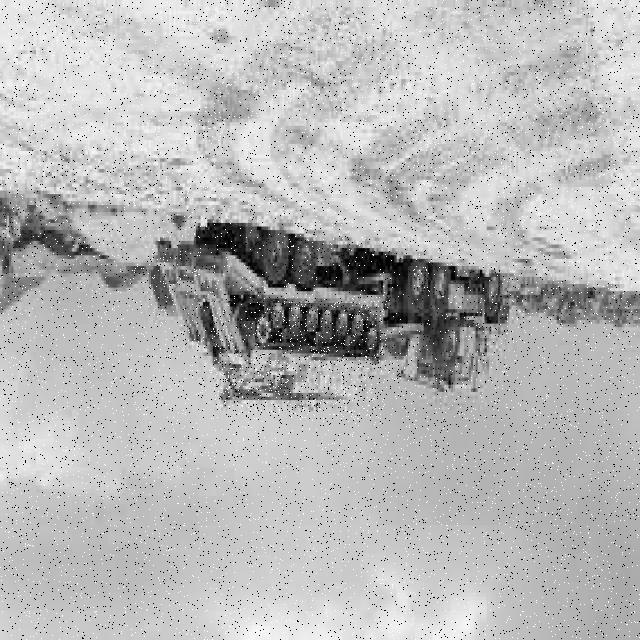MIL_MBT: (214, 301, 386, 419)
